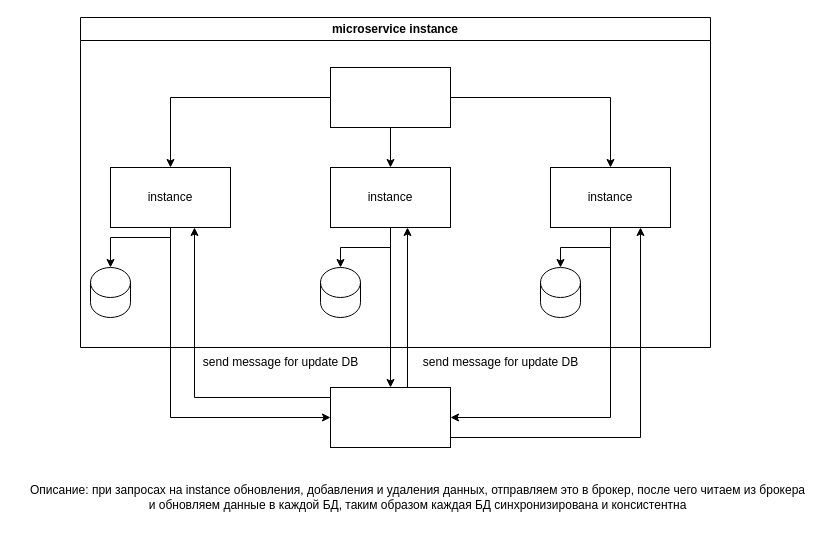
Image size: 834x535. Some labels were removed from this diagram. Here are the shapes that lost their labels. From the top down, the centre of each, then its label:
the point at 390,97: gateway
the point at 390,417: broker
